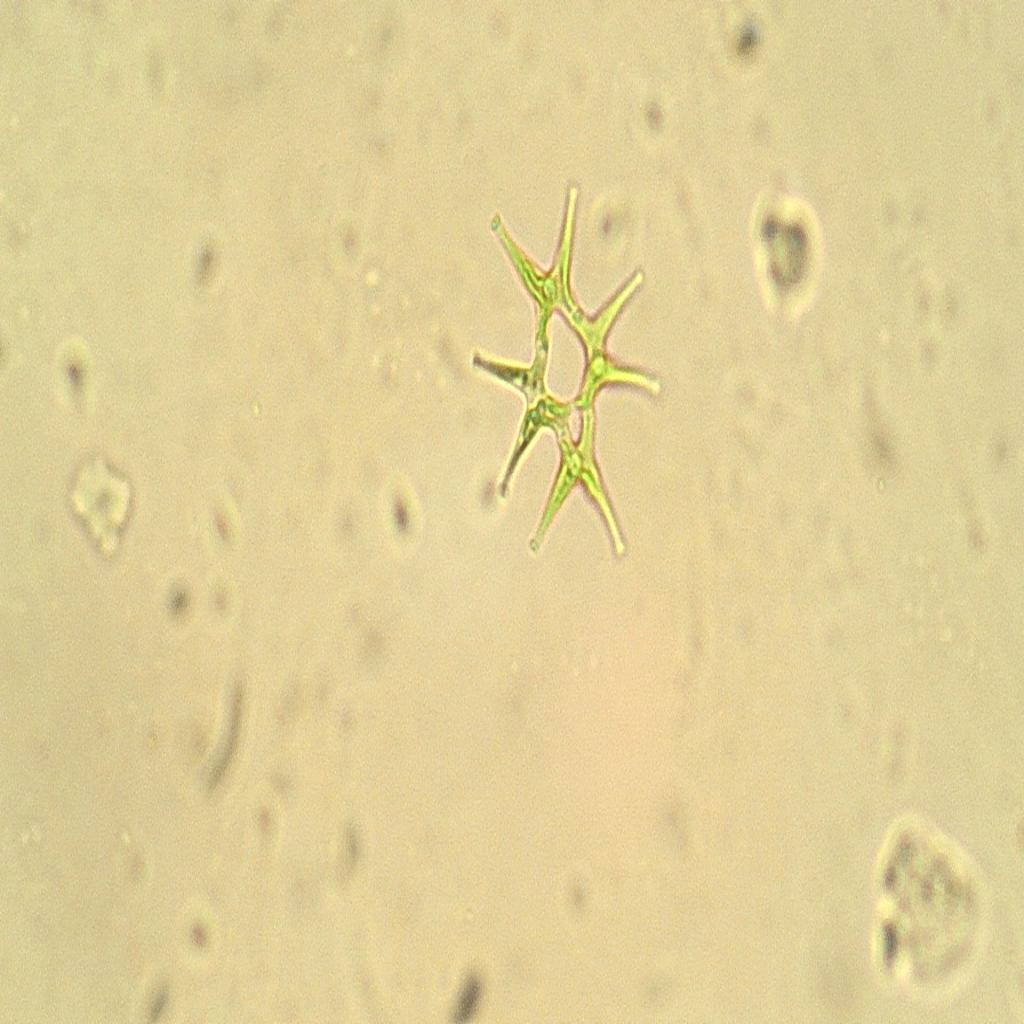Pediastrum_CF: (452, 163, 671, 573)
